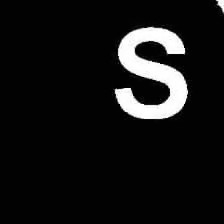LTR_S: (112, 18, 189, 121)
